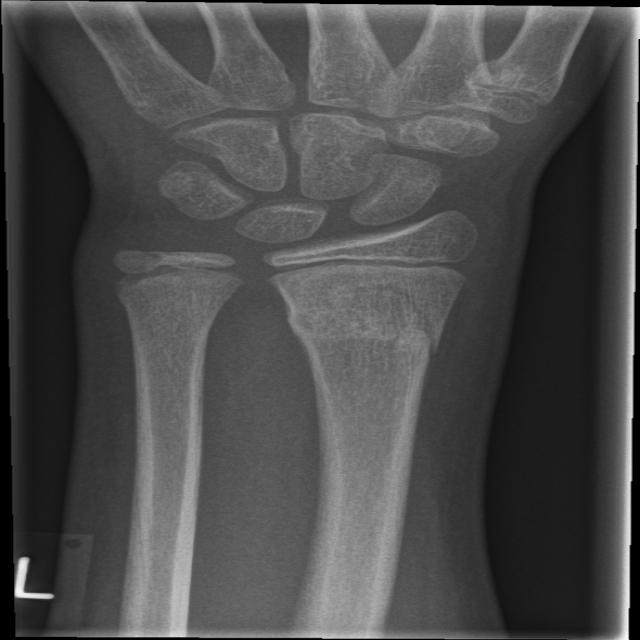radius fracture: (265, 297, 482, 425)
